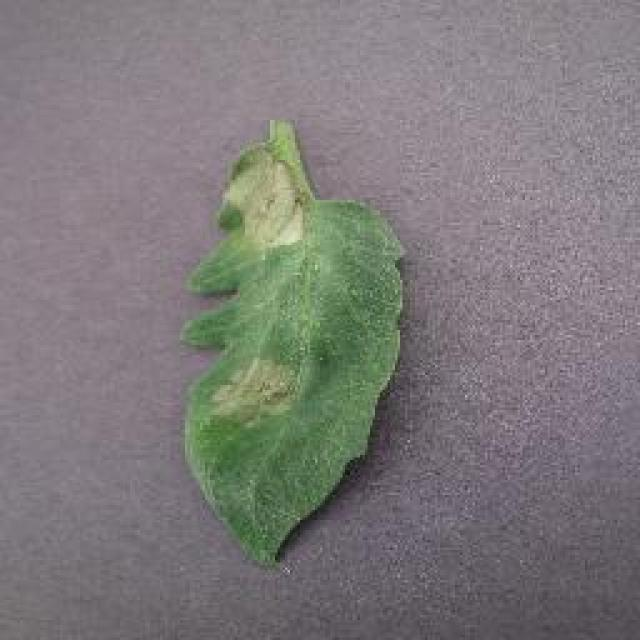Tomato late blight leaf: (190, 121, 408, 564)
